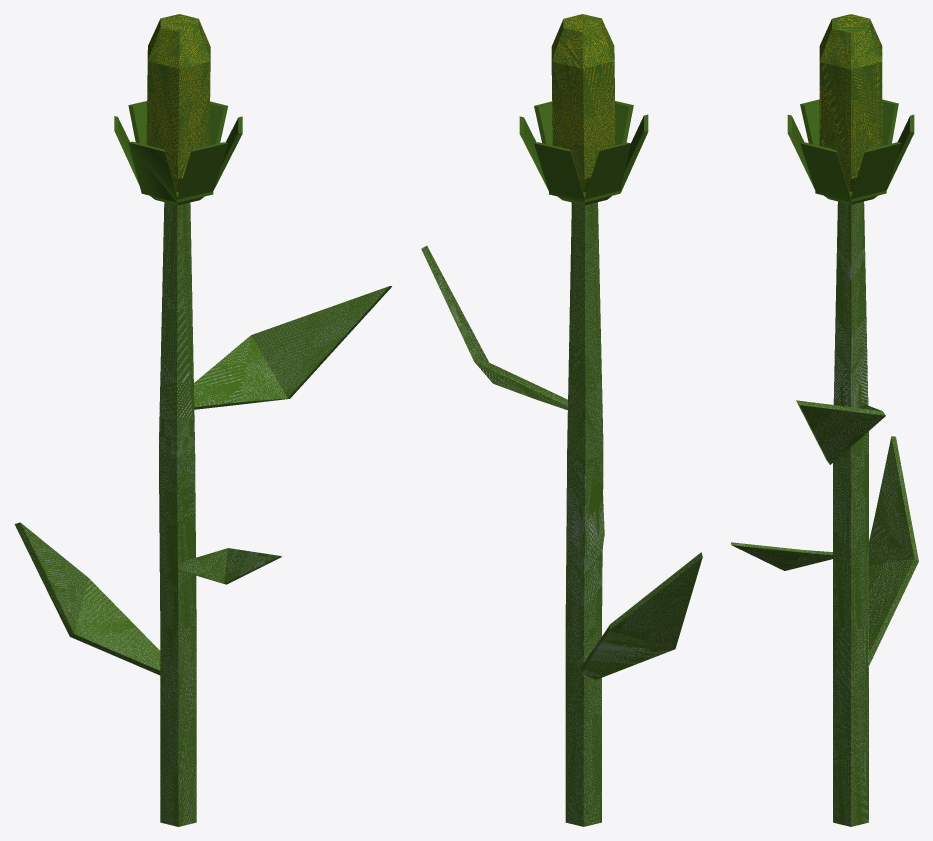
Rendered from Corn_Plant_03.fbx.
The picture shows the model from 3 angles, left to right: view 1: azimuth 30°, elevation 25°; view 2: azimuth 150°, elevation 25°; view 3: azimuth 270°, elevation 25°; orthographic projection.
Visible parts, largest first — view 1: Model; view 2: Model; view 3: Model.
Part boxes in pixels (left/top/right/bottom): Model: left=14, top=14, right=391, bottom=826; Model: left=421, top=14, right=702, bottom=826; Model: left=731, top=14, right=918, bottom=826.
Bounding box in the file's own units: 133 × 307 × 65.65.
